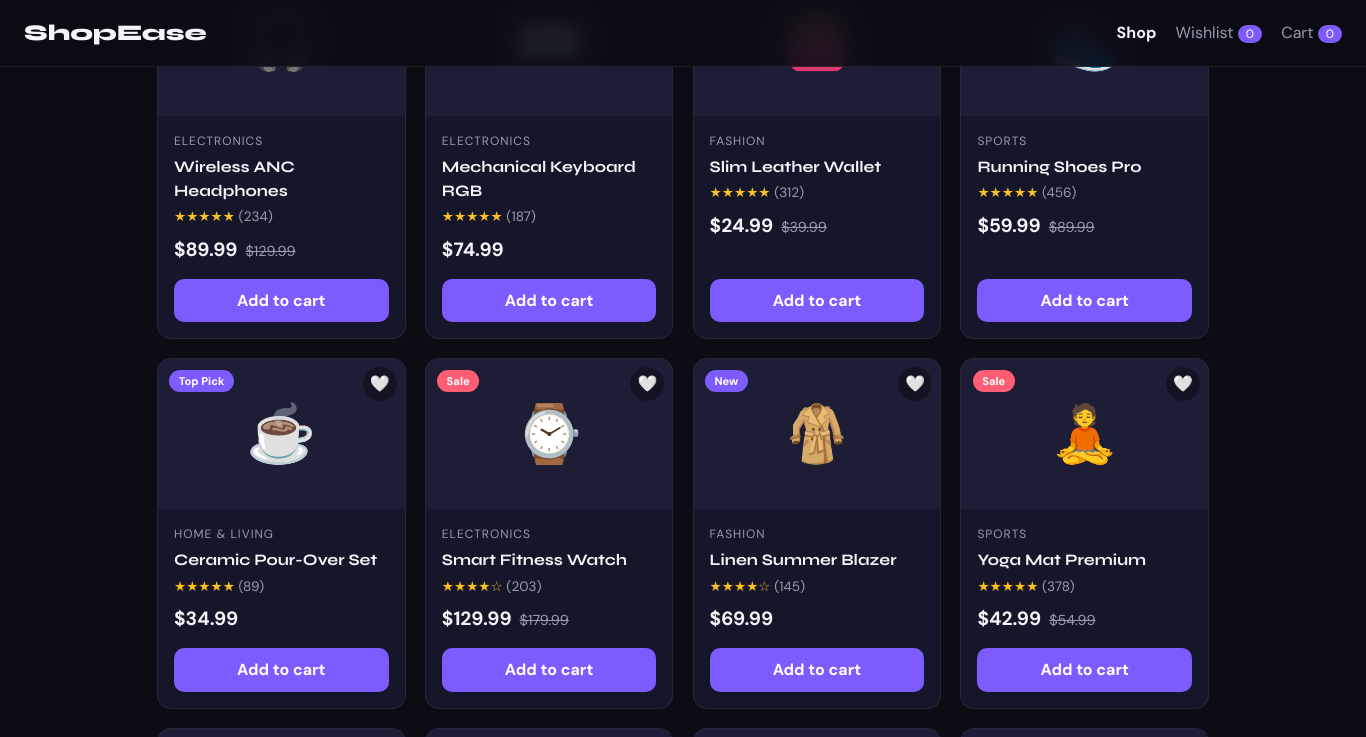
Test: ShopEase app › saves a product to the wishlist
(page scrolled)
What coordinates should you click on to do the following:
click the button named "Add Yoga Mat Premium to wishlist"
I would click on:
 (1183, 384)
Its box is top-left (1166, 367), bottom-right (1200, 401).
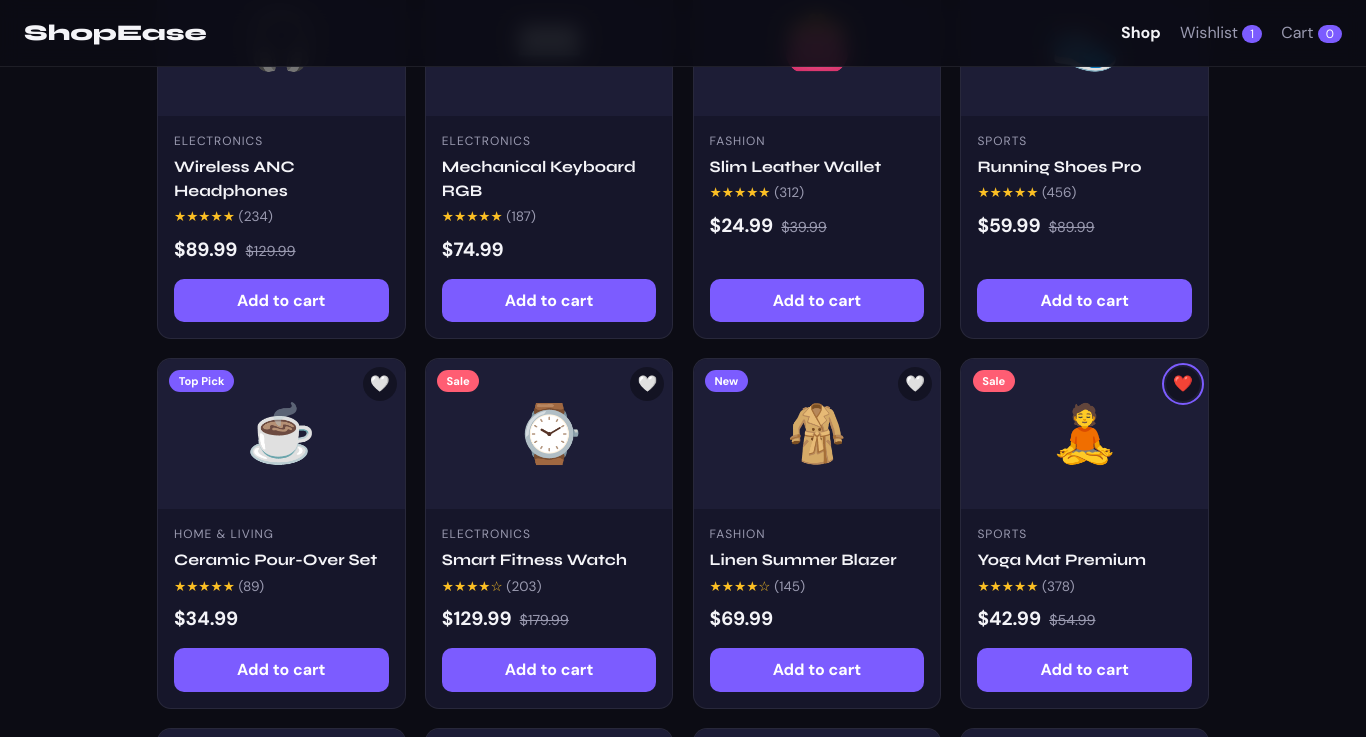
What coordinates should you click on to do the following:
click the link "Wishlist 1"
I would click on:
 (1221, 33)
Its box is top-left (1180, 21), bottom-right (1262, 45).
(page scrolled)
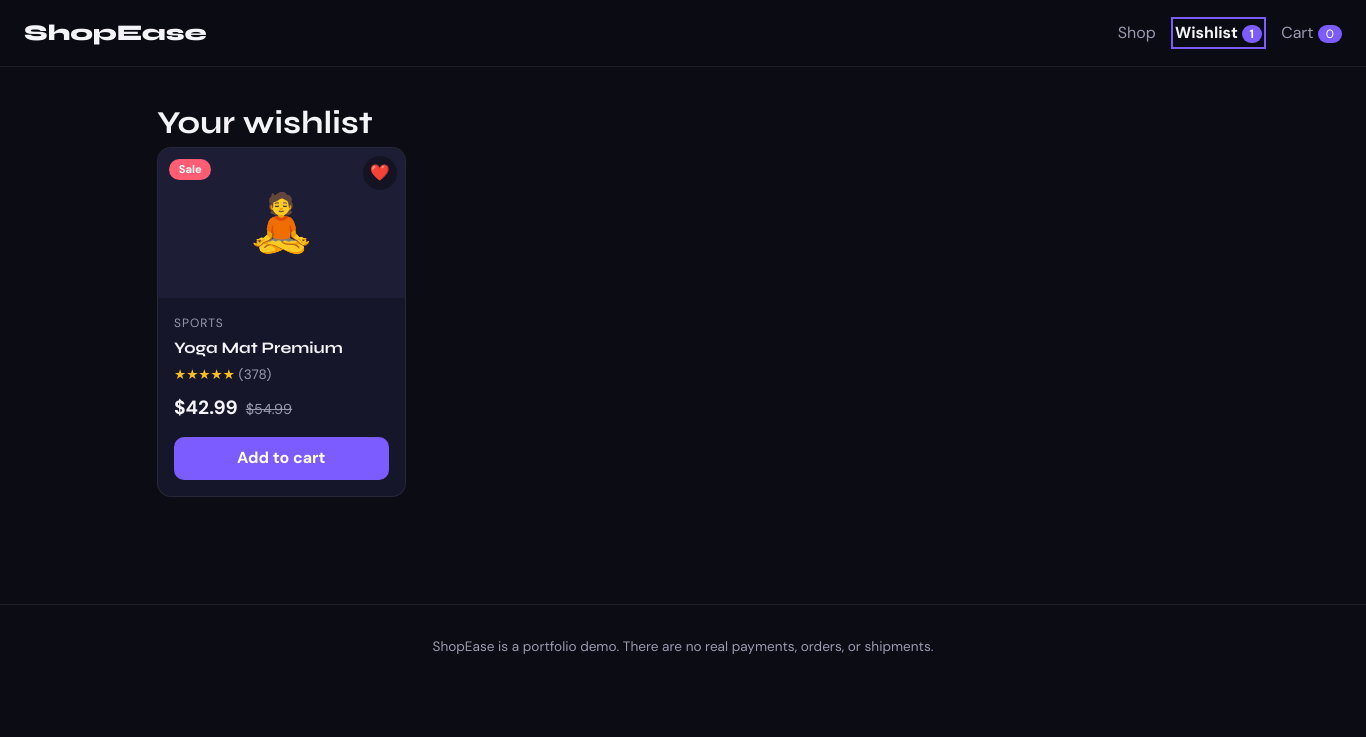
Expected: the link "Yoga Mat Premium" is shown, top-left (174, 338), bottom-right (343, 357)
Expected: the heading "Your wishlist" is shown, top-left (157, 103), bottom-right (373, 142)
